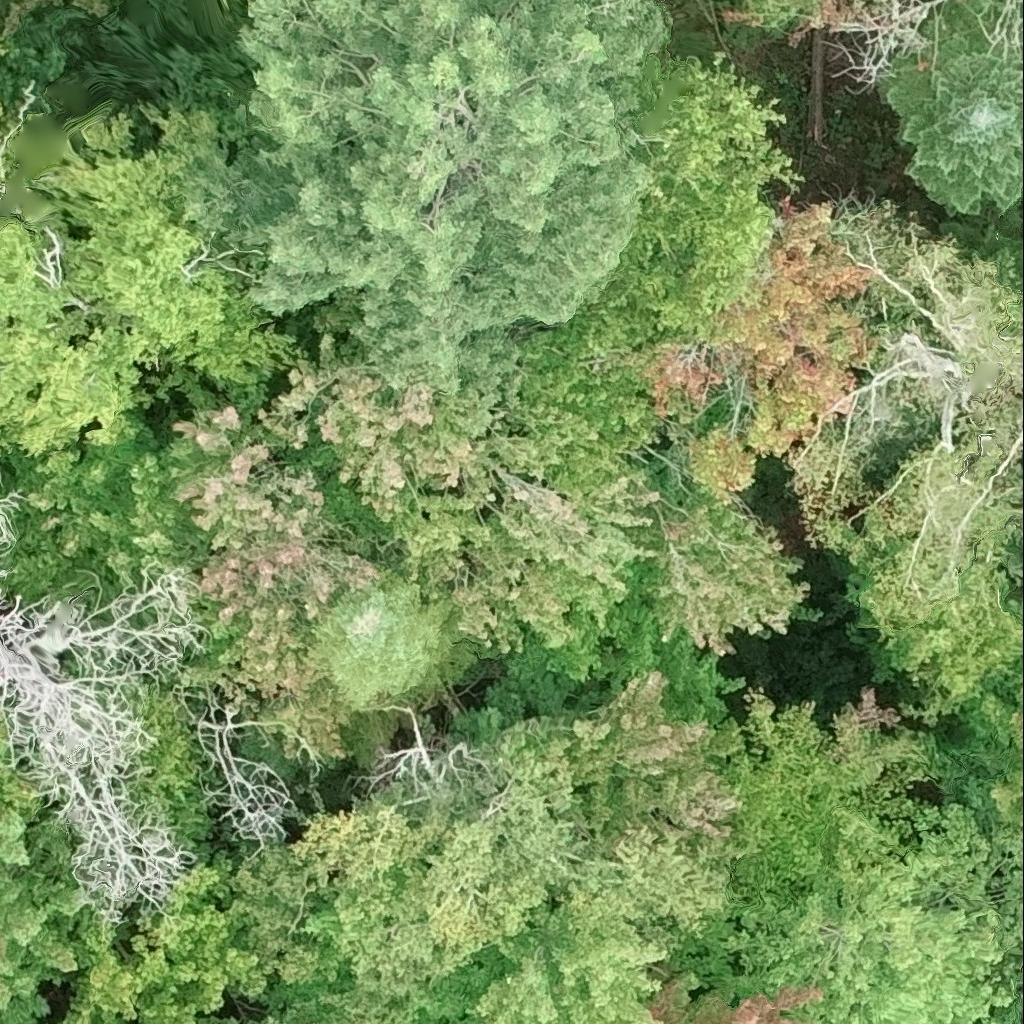crown: (230, 0, 668, 392), (787, 199, 1023, 718), (434, 387, 810, 672), (241, 727, 584, 1023), (132, 404, 388, 770), (0, 478, 209, 918), (36, 100, 300, 402), (637, 198, 880, 494), (562, 50, 798, 351), (705, 804, 1023, 1023), (696, 686, 939, 946), (256, 336, 528, 556), (531, 675, 744, 874), (63, 855, 279, 1023), (0, 218, 142, 452), (403, 906, 669, 1023), (882, 4, 1023, 214), (310, 549, 485, 716), (537, 821, 724, 961), (0, 808, 114, 1023), (645, 929, 816, 1023), (968, 687, 1023, 832), (719, 0, 870, 48), (204, 1001, 338, 1023), (997, 828, 1023, 937), (730, 0, 744, 4), (973, 0, 985, 2)
